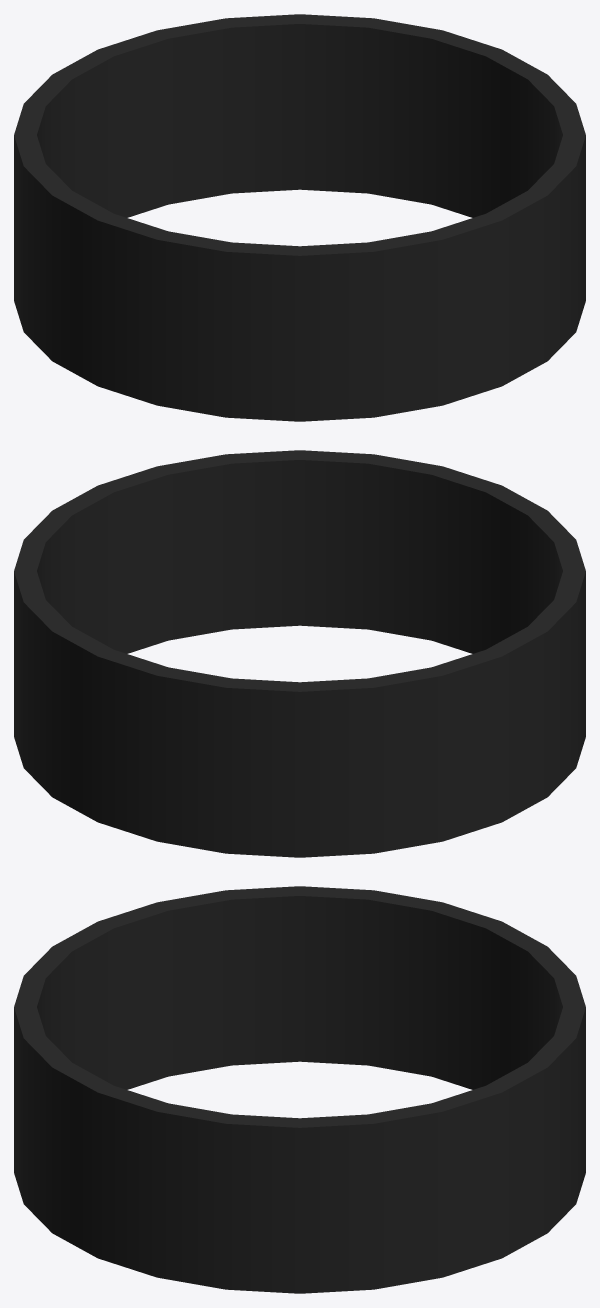
Rendered from Knight_Engine_0_1_Fairing.obj.
3 views of the same model, one above another, from view 1: azimuth 30°, elevation 25°; view 2: azimuth 150°, elevation 25°; view 3: azimuth 270°, elevation 25° (orthographic).
Parts seen in each view (by area): view 1: Knight_Engine_0_1_Fairing; view 2: Knight_Engine_0_1_Fairing; view 3: Knight_Engine_0_1_Fairing.
Boxes of the visible parts, bbox=[...] form: Knight_Engine_0_1_Fairing: bbox=[14, 14, 585, 421]; Knight_Engine_0_1_Fairing: bbox=[14, 450, 585, 857]; Knight_Engine_0_1_Fairing: bbox=[14, 886, 585, 1293].
Bounding box in the file's own units: 0.625 × 0.2 × 0.625.
